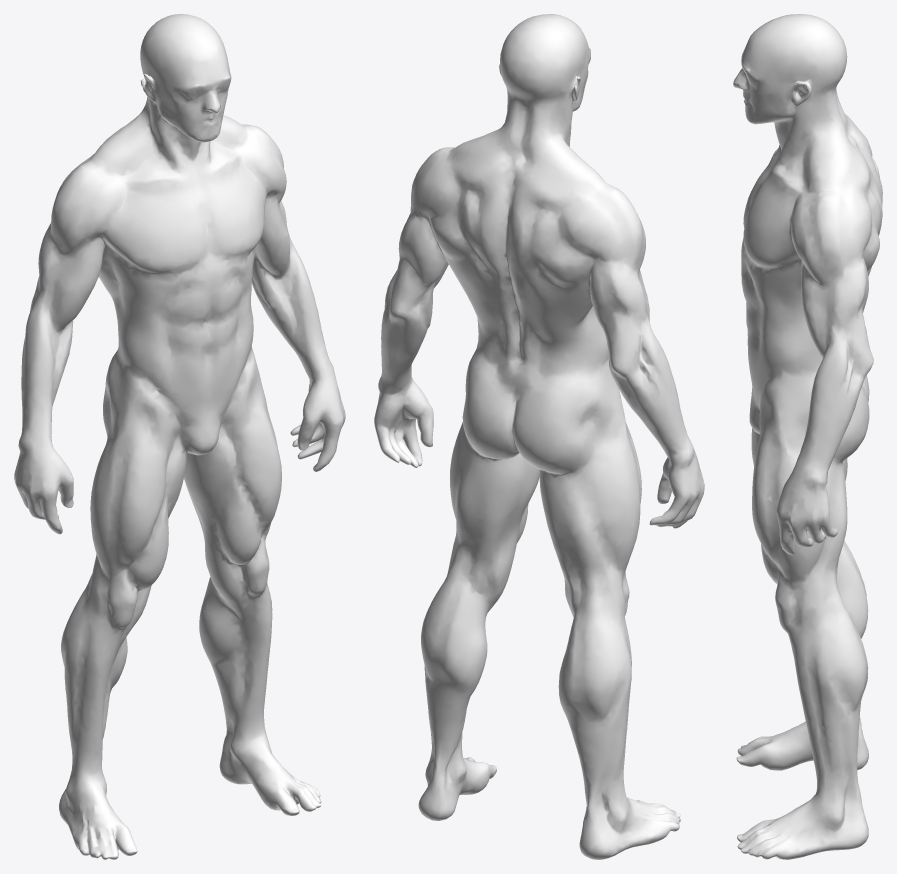
File: PlayerAvatar.fbx
The picture shows the model from 3 angles, left to right: view 1: azimuth 30°, elevation 25°; view 2: azimuth 150°, elevation 25°; view 3: azimuth 270°, elevation 25°; orthographic projection.
Parts seen in each view (by area): view 1: remesh; view 2: remesh; view 3: remesh.
Boxes of the visible parts, left/top/right/bottom form: remesh: left=14, top=14, right=345, bottom=859; remesh: left=374, top=14, right=704, bottom=859; remesh: left=733, top=14, right=882, bottom=859.
Bounding box in the file's own units: 0.4172 × 0.1713 × 0.9989.
Materials: 1 (1 with a texture image).
